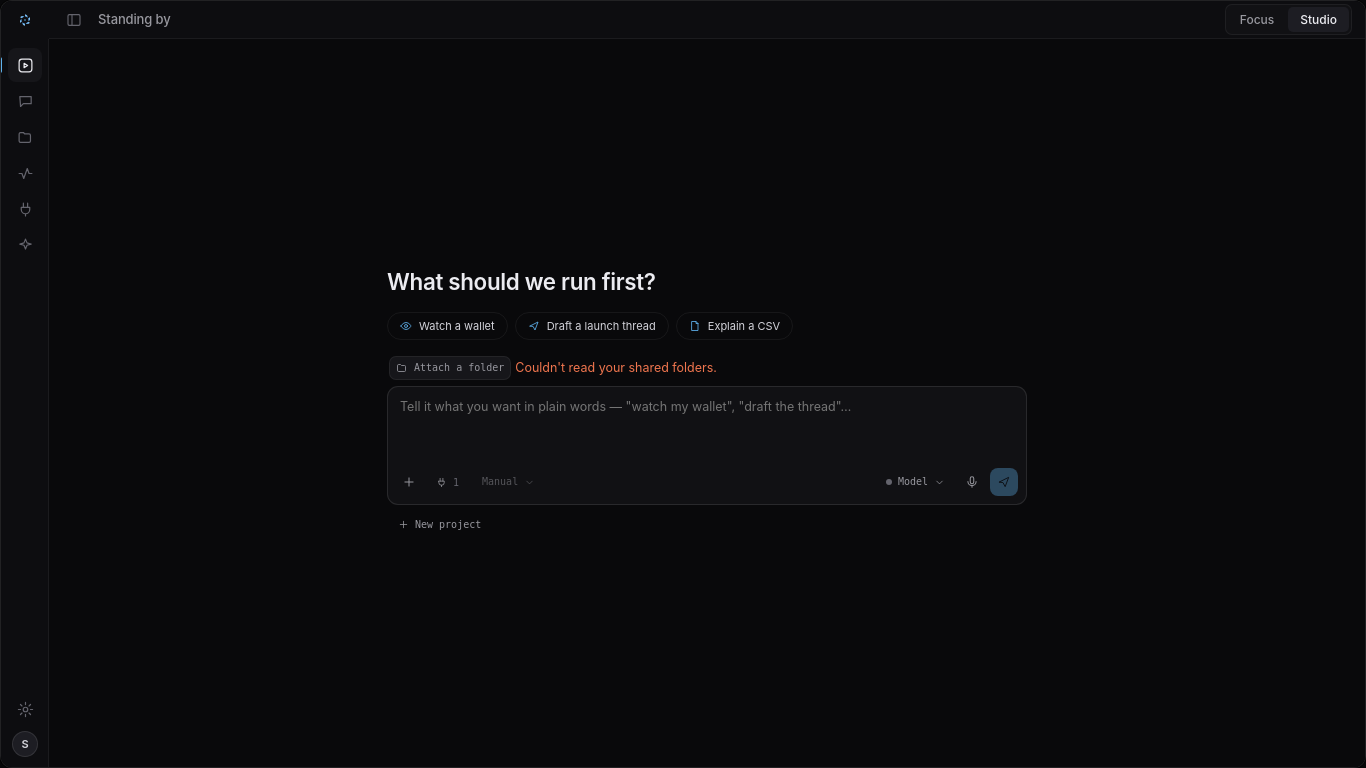
it: renderer bootstrap › shows the rail-foot Settings + avatar and opens the Settings surface
The width and height of the screenshot is (1366, 768).
Expected: the button "S" is shown, [12,731,38,757]
Click the button named "Settings": (25, 709) [8,692,42,726]
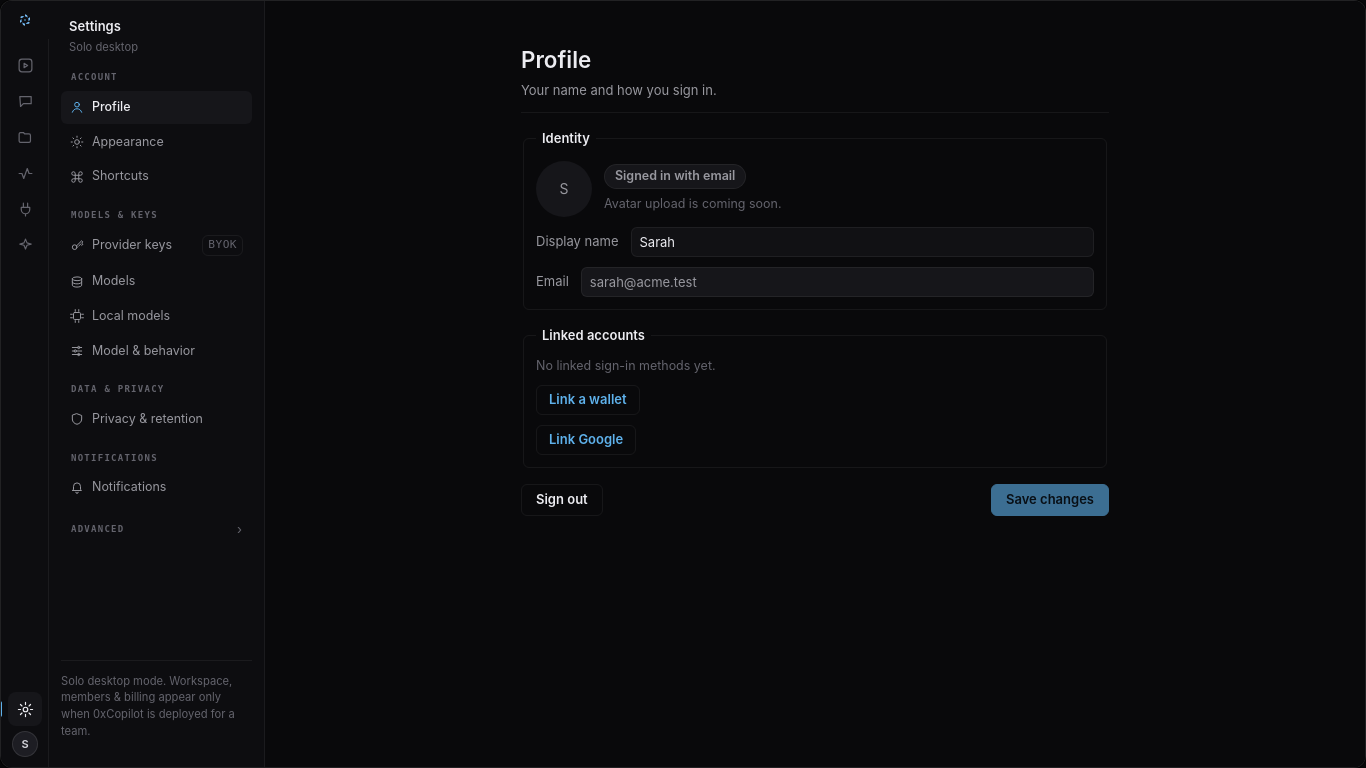
Now the element with test id "settings-surface" is shown
